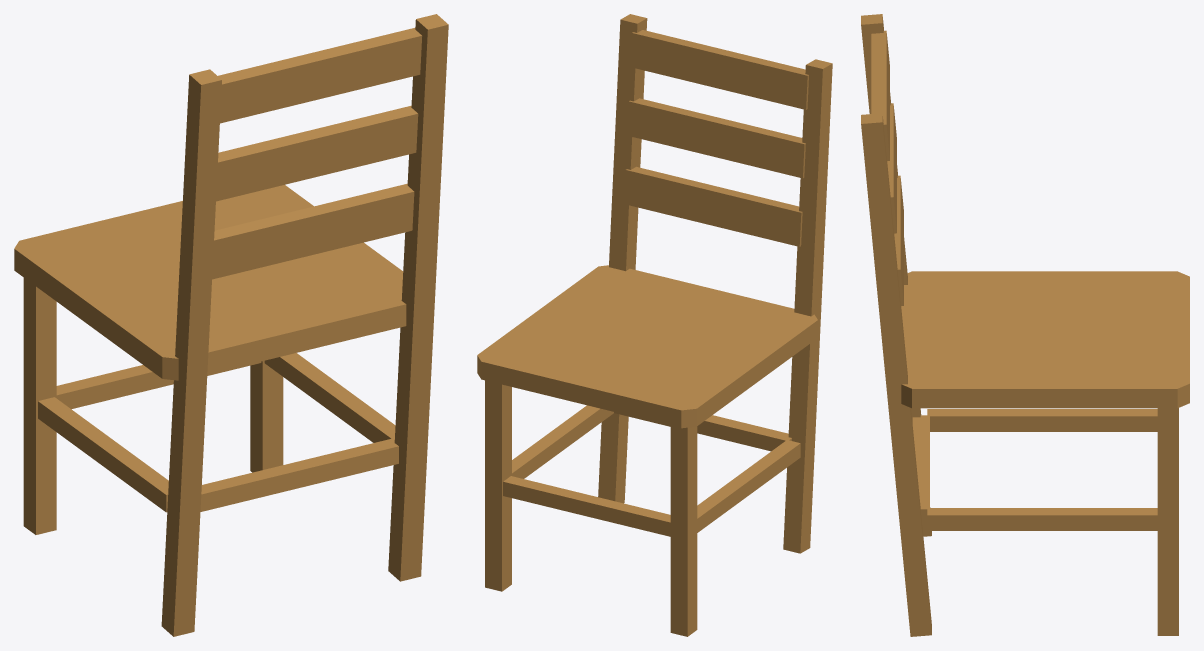
Rendered from SM_LPI_Seat_Chair_01.fbx.
The picture shows the model from 3 angles, left to right: view 1: azimuth 30°, elevation 25°; view 2: azimuth 150°, elevation 25°; view 3: azimuth 270°, elevation 25°; orthographic projection. The views are drawn at different scales.
Parts seen in each view (by area): view 1: SM_LPI_Seat_Chair_01; view 2: SM_LPI_Seat_Chair_01; view 3: SM_LPI_Seat_Chair_01.
Boxes of the visible parts, x1,y1,x2,y2 form: SM_LPI_Seat_Chair_01: [14, 14, 448, 636]; SM_LPI_Seat_Chair_01: [477, 14, 832, 636]; SM_LPI_Seat_Chair_01: [861, 14, 1189, 636].
Size of the model in its own units: 0.45 by 0.9195 by 0.5326.
